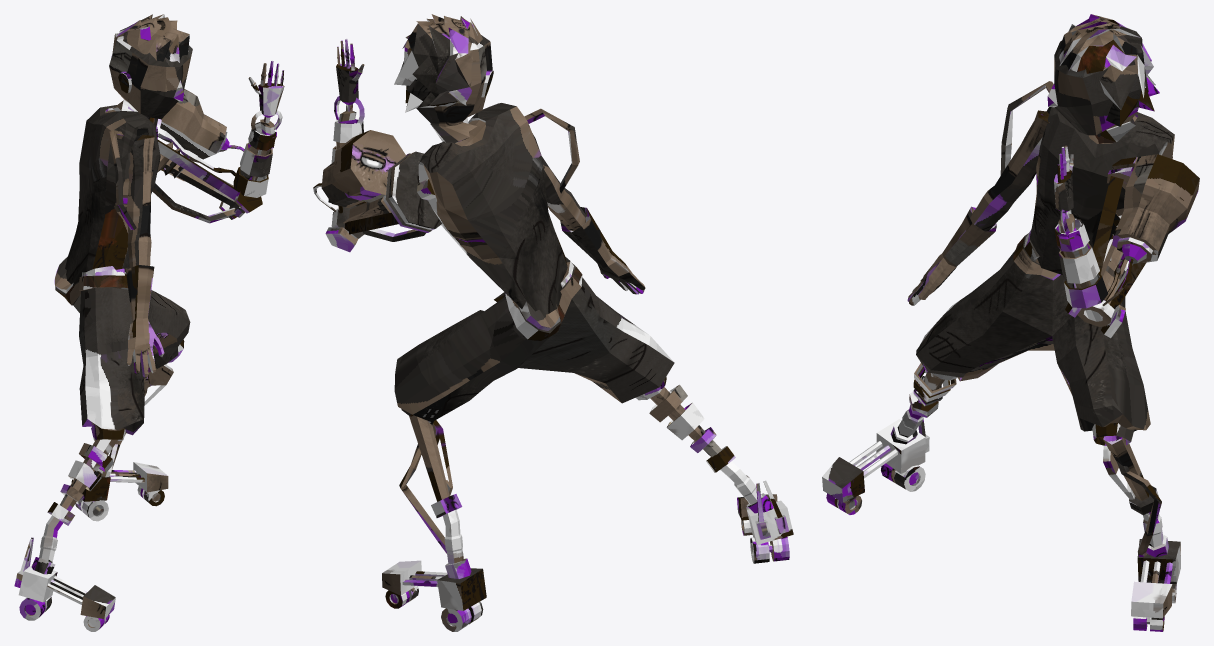
The model's file is CyborgFINALAnimation_000014.obj.
The picture shows the model from 3 angles, left to right: view 1: azimuth 30°, elevation 25°; view 2: azimuth 150°, elevation 25°; view 3: azimuth 270°, elevation 25°; orthographic projection. The views are drawn at different scales.
Visible parts, largest first — view 1: CyborgMesh_Cube.002; view 2: CyborgMesh_Cube.002; view 3: CyborgMesh_Cube.002.
Part boxes in pixels (left/top/right/bottom): CyborgMesh_Cube.002: left=14, top=14, right=284, bottom=631; CyborgMesh_Cube.002: left=313, top=14, right=793, bottom=631; CyborgMesh_Cube.002: left=822, top=14, right=1199, bottom=631.
Bounding box in the file's own units: 5.93 × 8.61 × 4.89.
